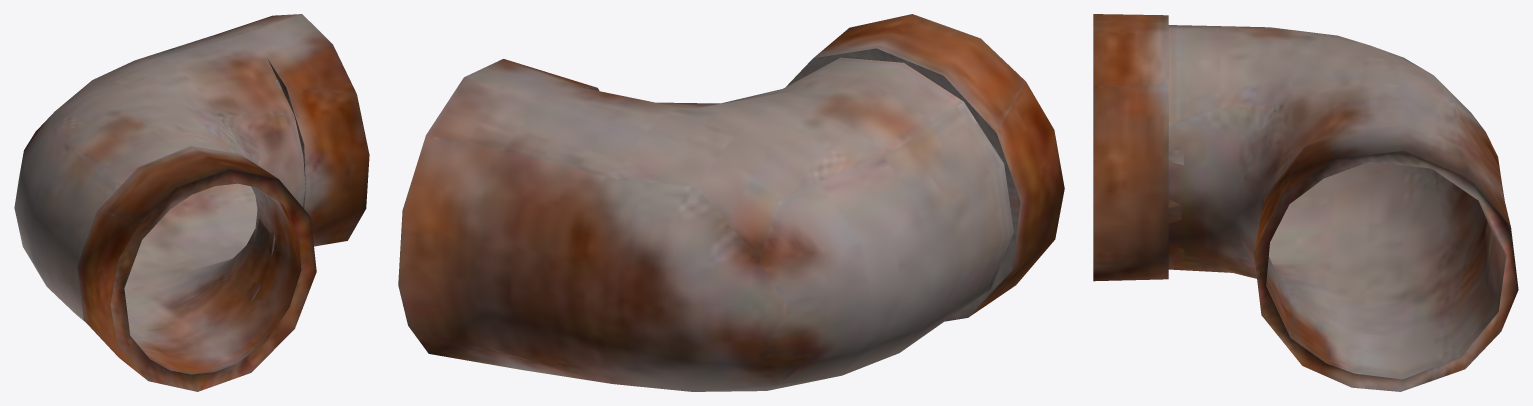
Rendered from small_steel_pipe_01.glb.
The picture shows the model from 3 angles, left to right: view 1: azimuth 30°, elevation 25°; view 2: azimuth 150°, elevation 25°; view 3: azimuth 270°, elevation 25°; orthographic projection. The views are drawn at different scales.
Parts seen in each view (by area): view 1: small_steel_pipe_01; view 2: small_steel_pipe_01; view 3: small_steel_pipe_01.
Boxes of the visible parts, bbox=[...] form: small_steel_pipe_01: bbox=[14, 14, 369, 391]; small_steel_pipe_01: bbox=[398, 14, 1064, 391]; small_steel_pipe_01: bbox=[1093, 14, 1518, 391].
Size of what is drawn, in the model's own units: 0.0344 by 0.0215 by 0.0344.
Materials: 1 (1 with a texture image).
